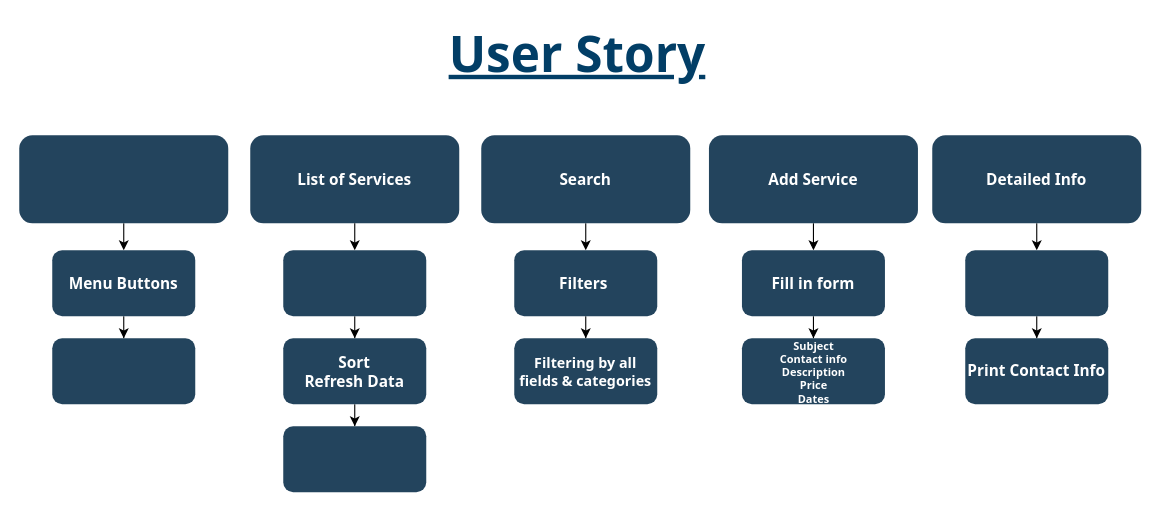
This 1159x510 diagram has some shape labels left out. The shapes that lost their labels are listed below. From the top down, each one's centre as x and y in pixels, then its label:
point (123, 179): Home Page
point (354, 283): Manipulation with table
point (1036, 283): Contact Info
point (123, 371): See services Add service
point (354, 459): Sort By All fields
